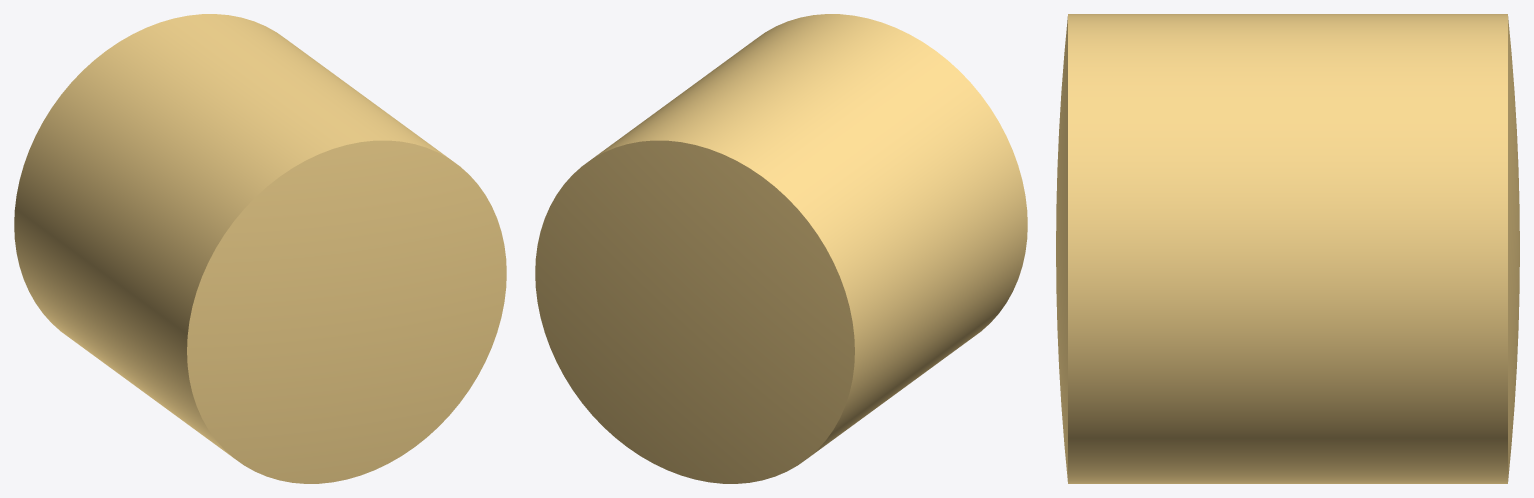
Rendered from FG_MedallionFace.obj.
3 views of the same model, side by side, from view 1: azimuth 30°, elevation 25°; view 2: azimuth 150°, elevation 25°; view 3: azimuth 270°, elevation 25° (orthographic). The views are drawn at different scales.
Visible parts, largest first — view 1: FG_MedallionFace; view 2: FG_MedallionFace; view 3: FG_MedallionFace.
Boxes of the visible parts, x1,y1,x2,y2 form: FG_MedallionFace: [14, 14, 506, 483]; FG_MedallionFace: [535, 14, 1027, 483]; FG_MedallionFace: [1056, 14, 1519, 483].
Size of the model in its own units: 3.12 by 3.12 by 3.08.
